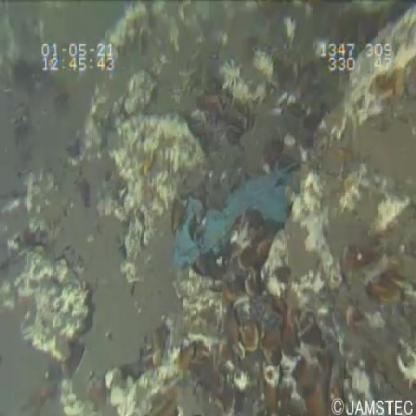Rác: (167, 157, 301, 275)
